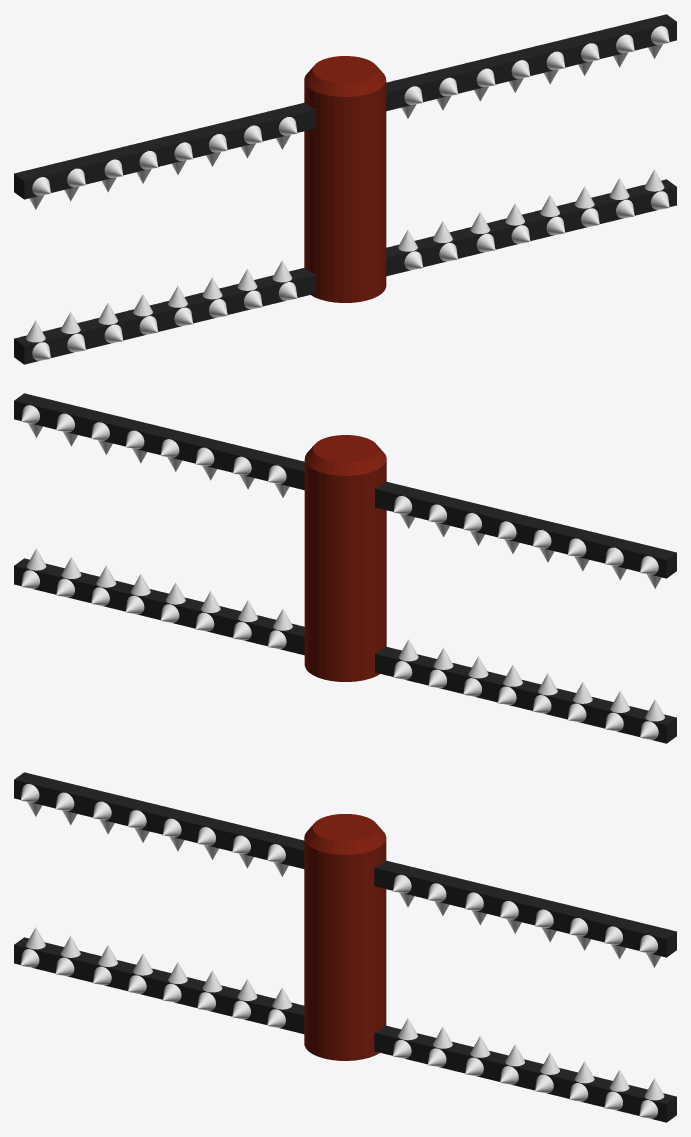
The model's file is clock.fbx.
The picture shows the model from 3 angles, top to bottom: view 1: azimuth 30°, elevation 25°; view 2: azimuth 150°, elevation 25°; view 3: azimuth 330°, elevation 25°; orthographic projection.
Parts seen in each view (by area): view 1: Cube.001, Cylinder.001; view 2: Cube.001, Cylinder.001; view 3: Cube.001, Cylinder.001.
Boxes of the visible parts, x1=… form: Cube.001: x1=14, y1=14, x2=676, y2=364; Cylinder.001: x1=304, y1=56, x2=386, y2=302; Cube.001: x1=14, y1=393, x2=676, y2=743; Cylinder.001: x1=304, y1=435, x2=386, y2=681; Cube.001: x1=14, y1=772, x2=676, y2=1122; Cylinder.001: x1=304, y1=814, x2=386, y2=1060.
Bounding box in the file's own units: 735 × 232 × 80.
2 materials, 2 textured.
